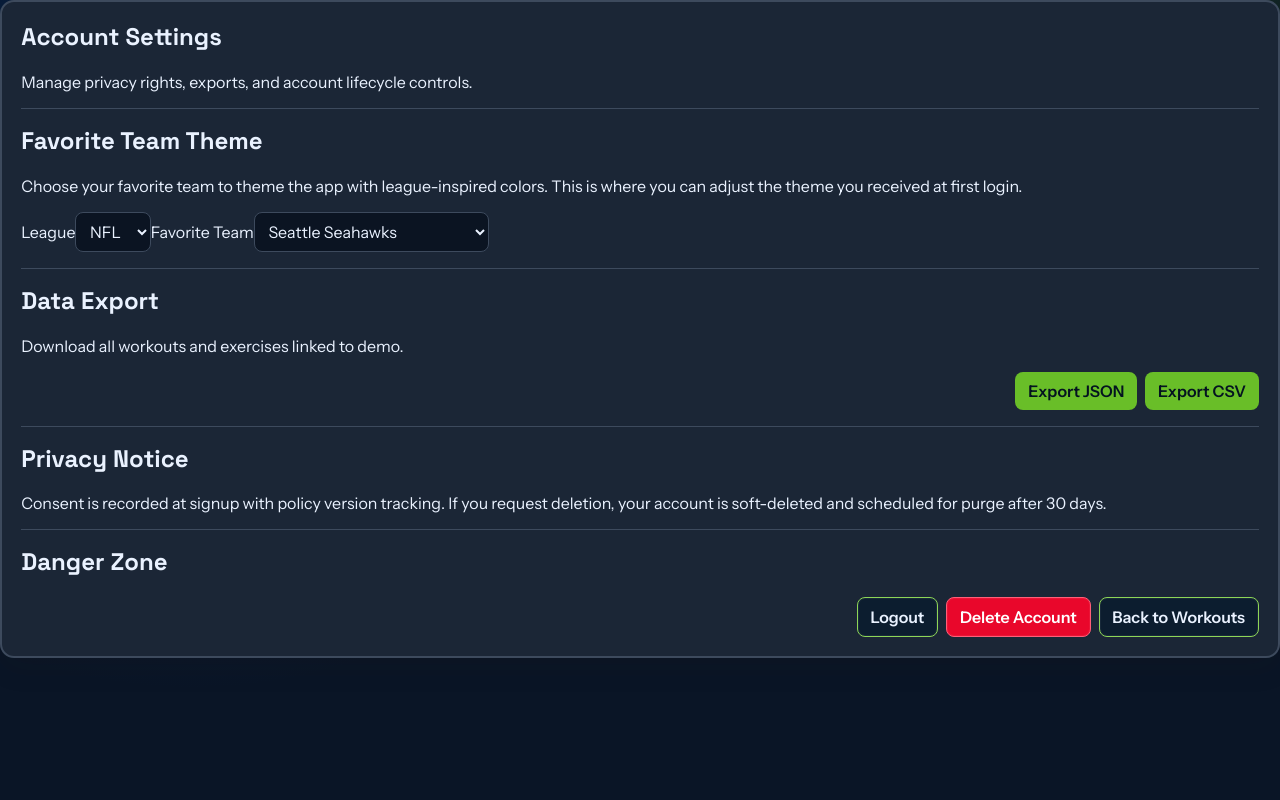
Scenario: AccountSettingsPage › filters the team list by selected league
Select "NHL" in the dropdown labelled "League" at {"x": 113, "y": 232}, box [76,212,151,252]
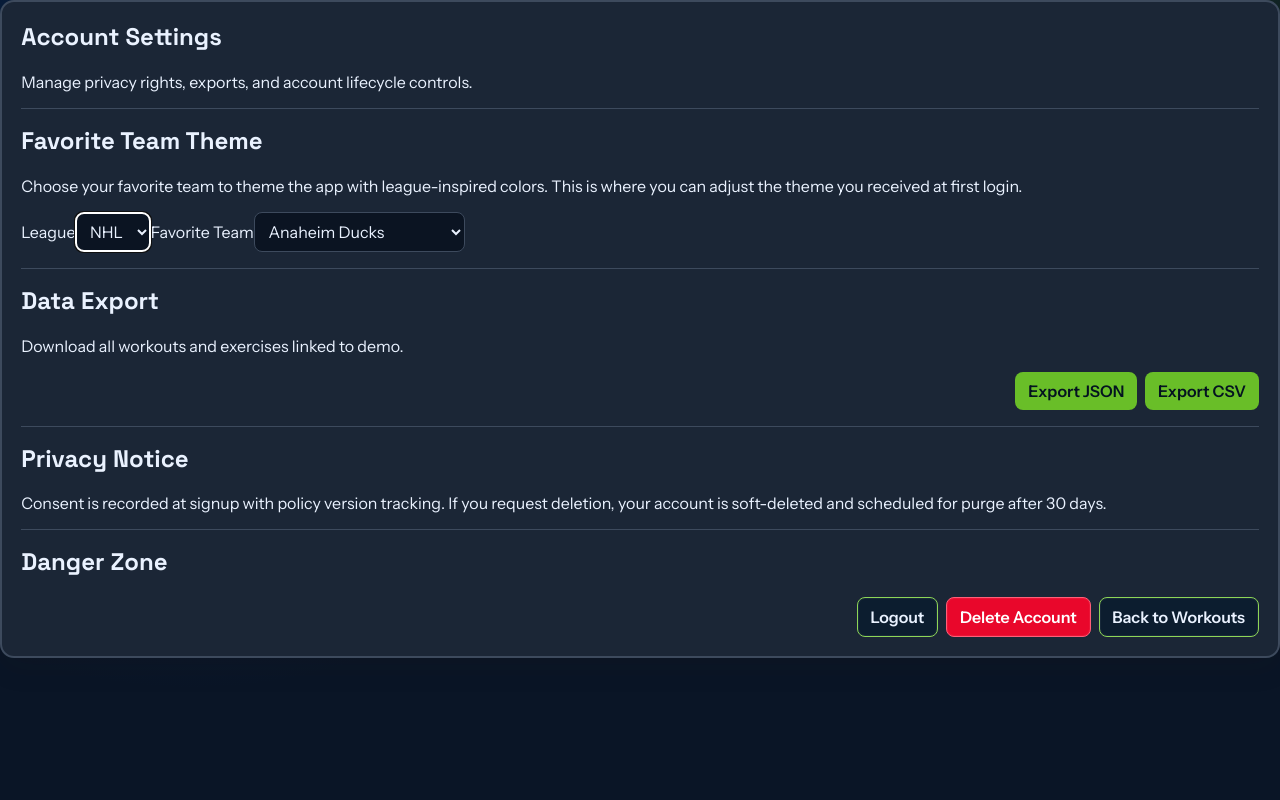
Expected: the option "Seattle Seahawks" is not shown
Expected: the dropdown labelled "Favorite Team" shows "Anaheim Ducks", [254,212,465,252]
